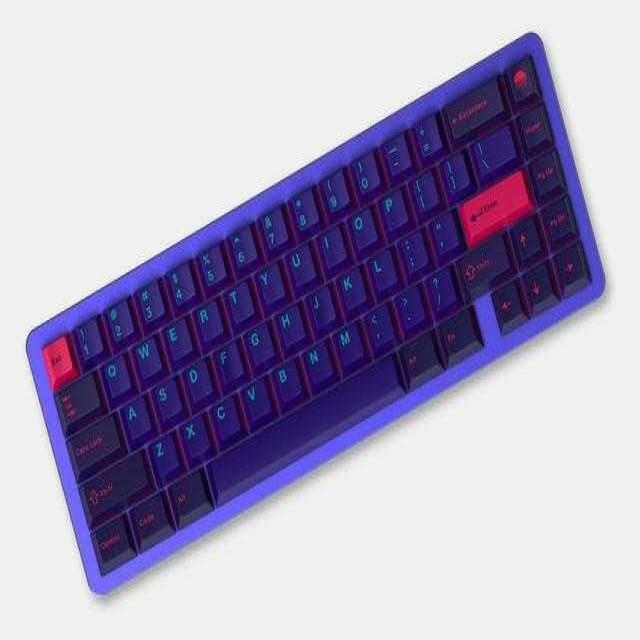keyboard: (20, 32, 610, 594)
